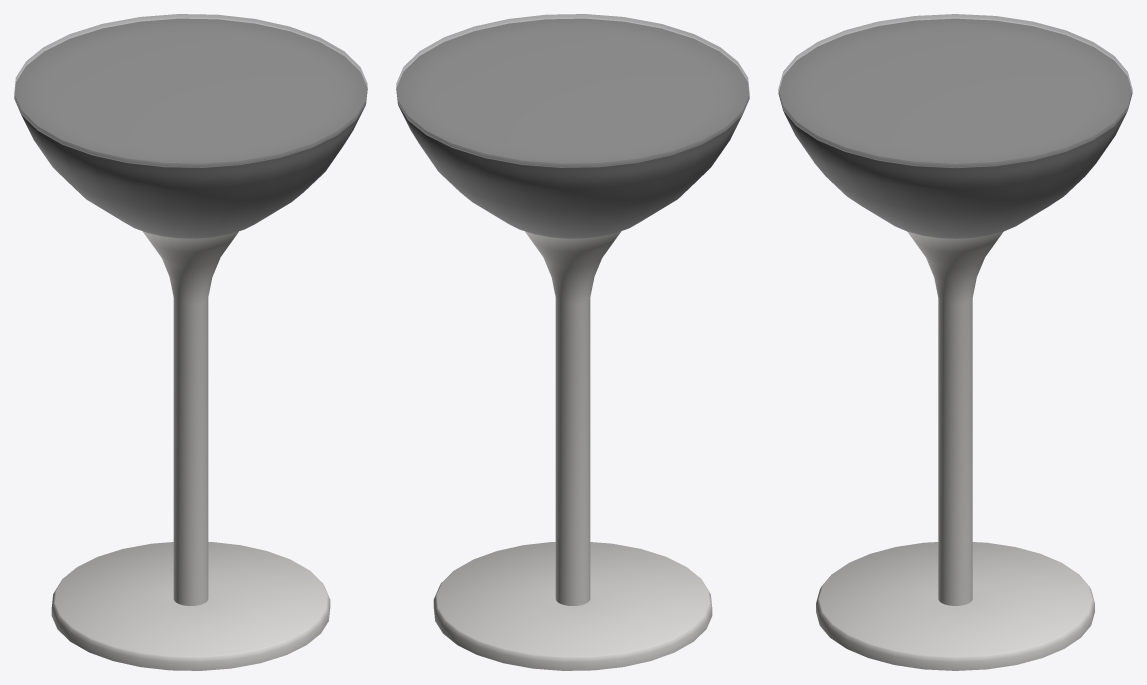
Rendered from LedTable03.FBX.
The picture shows the model from 3 angles, left to right: view 1: azimuth 30°, elevation 25°; view 2: azimuth 150°, elevation 25°; view 3: azimuth 270°, elevation 25°; orthographic projection.
Visible parts, largest first — view 1: LedTable03; view 2: LedTable03; view 3: LedTable03.
Part boxes in pixels (bbox=[...]): LedTable03: bbox=[14, 14, 367, 670]; LedTable03: bbox=[396, 14, 749, 670]; LedTable03: bbox=[778, 14, 1132, 670].
Bounding box in the file's own units: 29.11 × 47.44 × 29.11.
